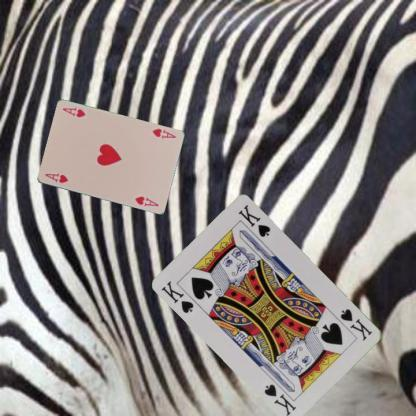Ah: (42, 170, 70, 184), (150, 126, 176, 140)
Ks: (158, 278, 196, 315), (338, 306, 374, 342)
